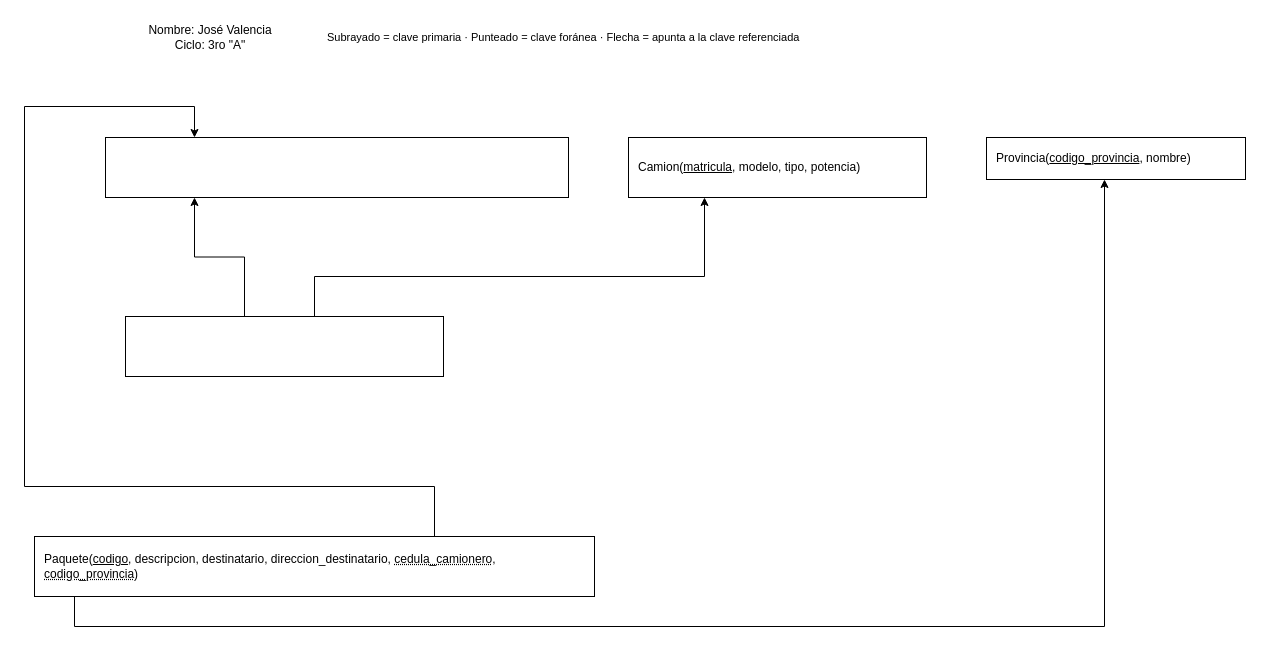
Some shapes in this 1263 by 652 pixel diagram are drawn without their labels. The box of each missing label's shape, as (x1, y1, x2, y2) in pixels:
Camionero( cedula , nombre, telefono, direccion, salario, poblacion): (104, 136, 568, 198)
Lleva_En( cedula_camionero , matricula , fecha): (124, 316, 444, 376)
